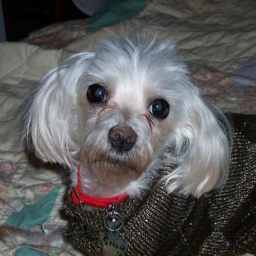dog: (20, 34, 230, 248)
